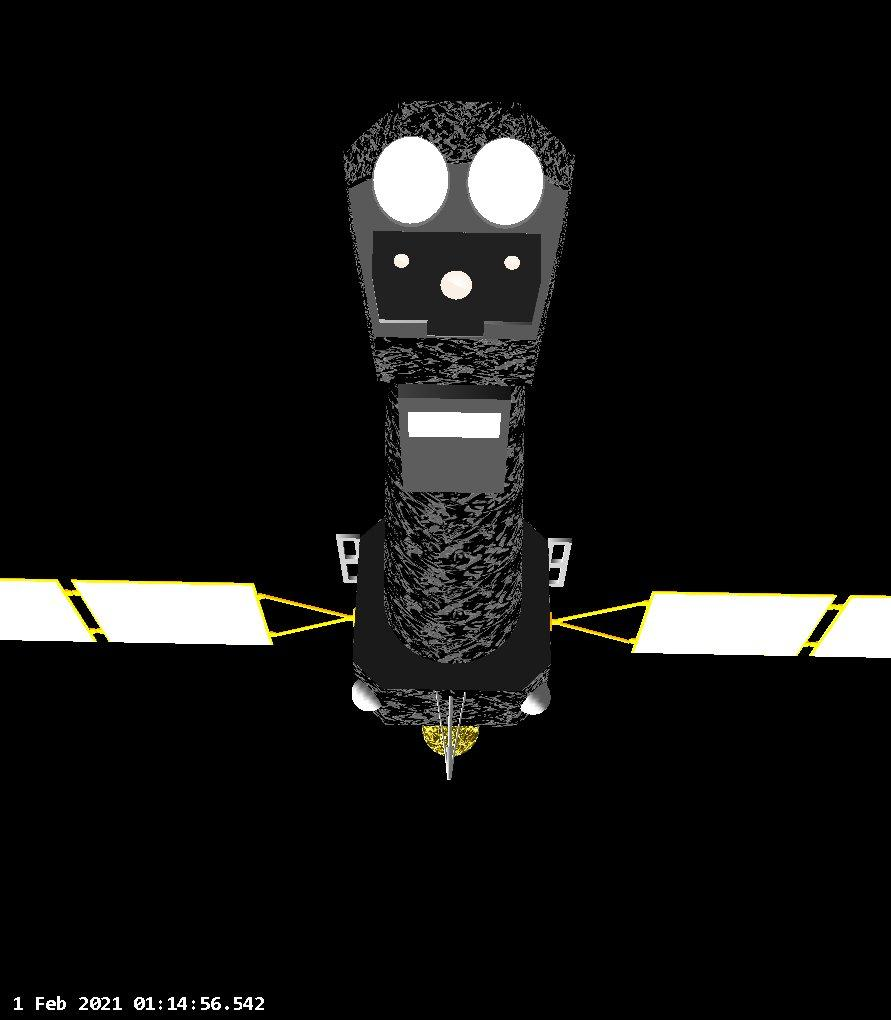antenna: (465, 134, 546, 229), (374, 133, 450, 223), (430, 685, 470, 783), (437, 268, 476, 302), (393, 250, 411, 270), (504, 254, 522, 271)
body: (334, 95, 575, 731)
solar: (0, 573, 363, 651), (547, 584, 891, 662)
